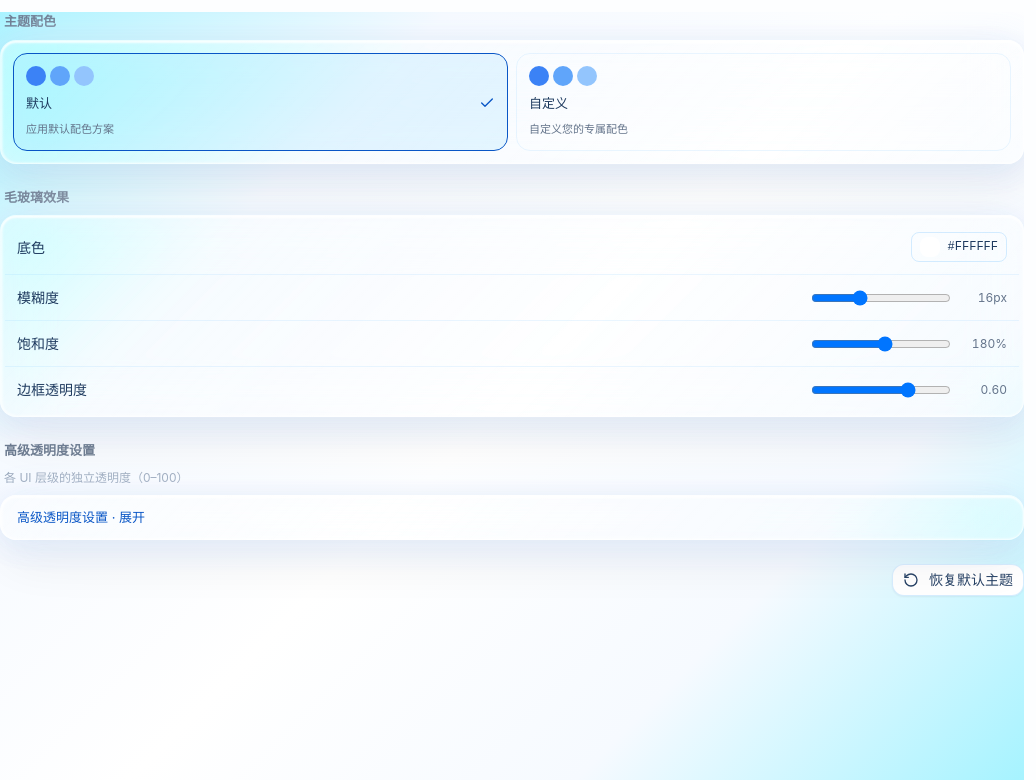
Test case: ThemeEditor › 默认预设：只显示预设卡片与毛玻璃，不显示自定义颜色；点「自定义」卡片切预设并展开取色器
Expected: the radio button labelled "默认 应用默认配色方案" is checked, [13,52,508,150]
Expected: the text "自定义颜色" is not shown
Click the radio button labelled "自定义 自定义您的专属配色". click: (549, 102)
box: [516,52,1011,150]
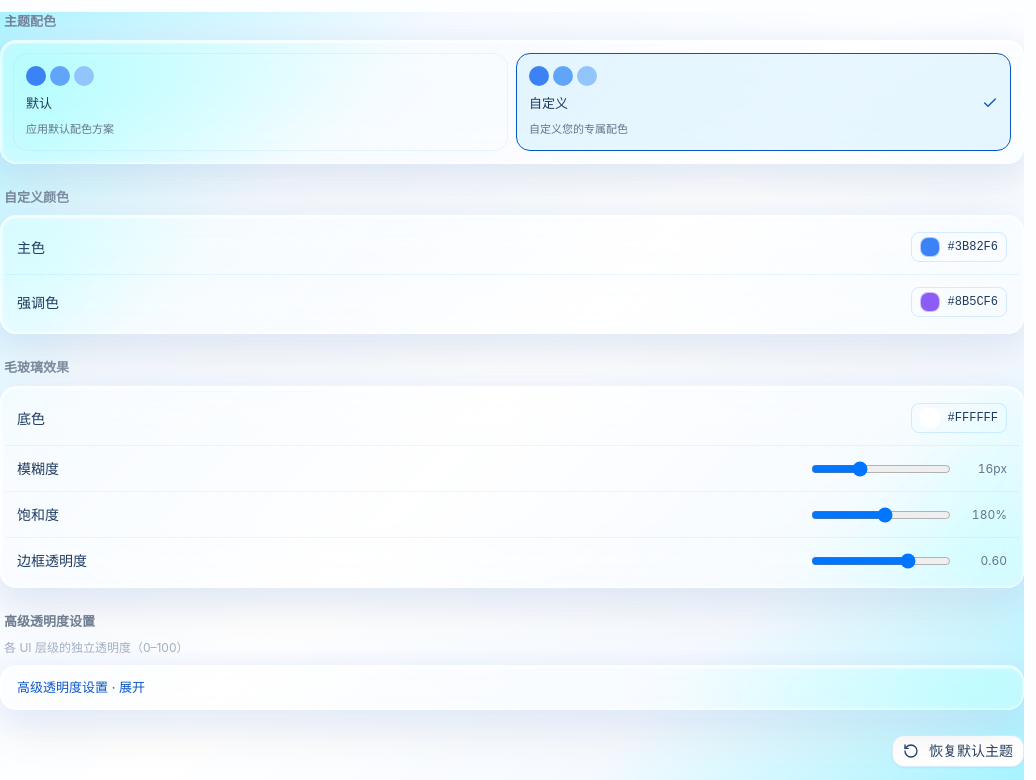
Result: the heading "自定义颜色" is shown at [4,188,69,204]
Result: the button named "主色" reads "#3B82F6" at [911,232,1007,262]
